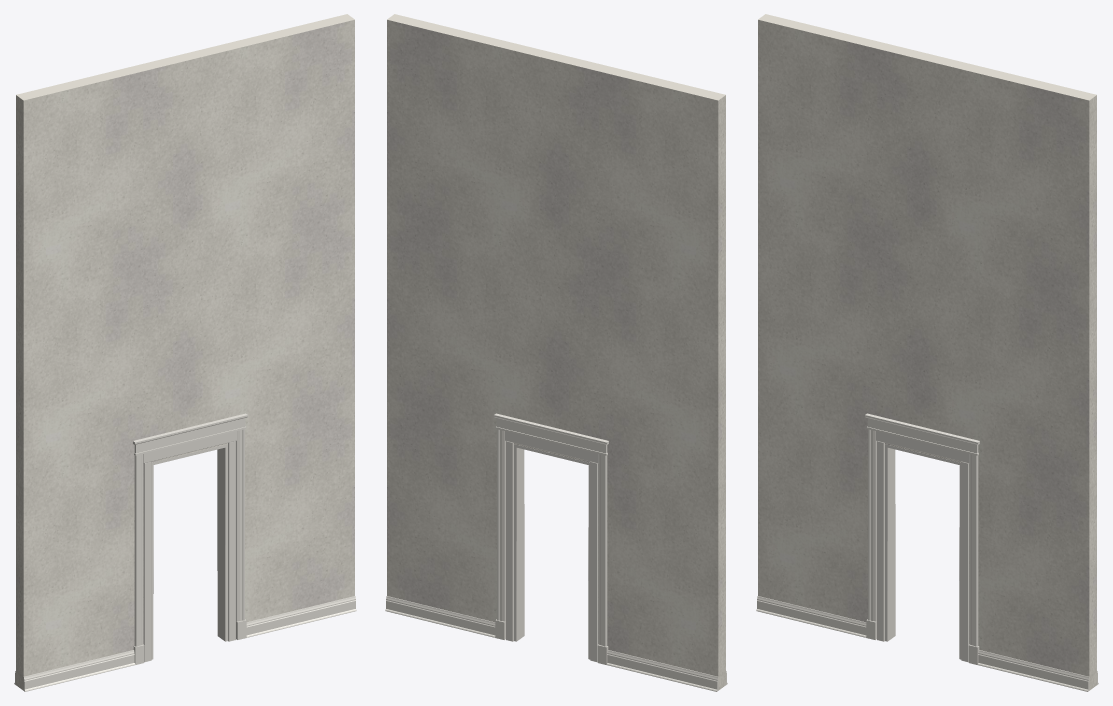
3 renders of one model, left to right at view 1: azimuth 30°, elevation 25°; view 2: azimuth 150°, elevation 25°; view 3: azimuth 330°, elevation 25°, orthographic.
Parts seen in each view (by area): view 1: pw_370_185_86_plaster, molduras, pw_370_185_86_frame; view 2: pw_370_185_86_plaster, molduras, pw_370_185_86_frame; view 3: pw_370_185_86_plaster, molduras, pw_370_185_86_frame.
Boxes of the visible parts, x1=… form: pw_370_185_86_plaster: x1=16, y1=14, x2=354, y2=690; molduras: x1=14, y1=413, x2=356, y2=691; pw_370_185_86_frame: x1=143, y1=431, x2=236, y2=661; pw_370_185_86_plaster: x1=387, y1=14, x2=725, y2=690; molduras: x1=385, y1=413, x2=727, y2=691; pw_370_185_86_frame: x1=505, y1=431, x2=598, y2=661; pw_370_185_86_plaster: x1=758, y1=14, x2=1096, y2=690; molduras: x1=756, y1=413, x2=1098, y2=691; pw_370_185_86_frame: x1=876, y1=431, x2=969, y2=661.
Bounding box in the file's own units: 3.7 × 6.3 × 0.234.
Materials: 3 (1 with a texture image).
